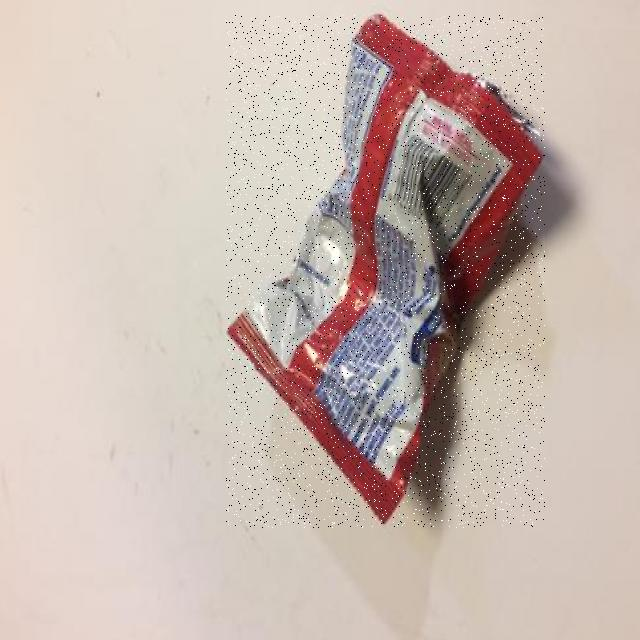wrapper: (227, 16, 545, 528)
